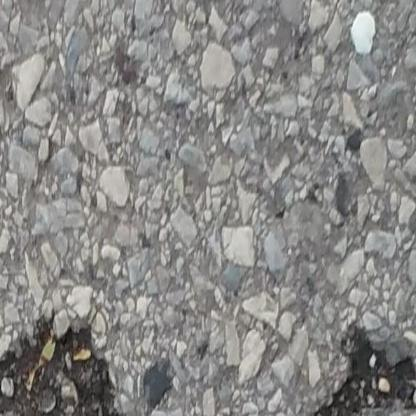Cracks: (0, 333, 136, 416), (307, 326, 416, 416)
